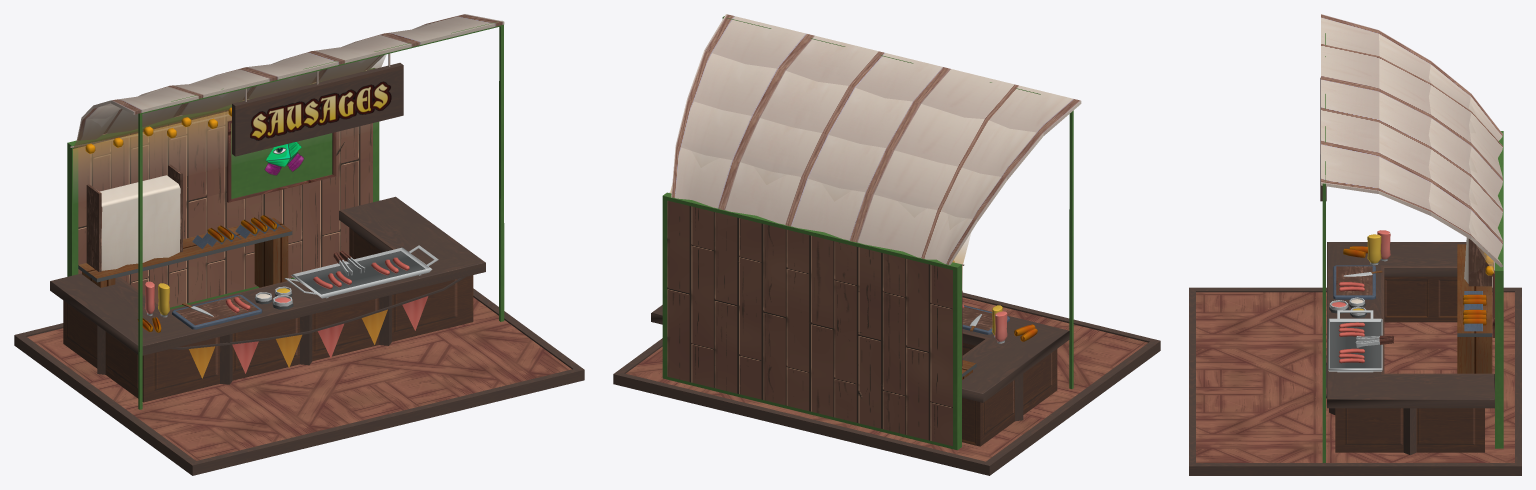
File: Booth_Food02.glb
3 renders of one model, left to right at view 1: azimuth 30°, elevation 25°; view 2: azimuth 150°, elevation 25°; view 3: azimuth 270°, elevation 25°, orthographic. The views are drawn at different scales.
Parts seen in each view (by area): view 1: Booth_Food02; view 2: Booth_Food02; view 3: Booth_Food02.
Boxes of the visible parts, x1,y1,x2,y2 form: Booth_Food02: (14, 14, 584, 475); Booth_Food02: (613, 14, 1160, 475); Booth_Food02: (1189, 14, 1521, 475).
Size of what is drawn, in the model's own units: 6.56 by 4.95 by 5.17.
9 materials, 9 textured.
